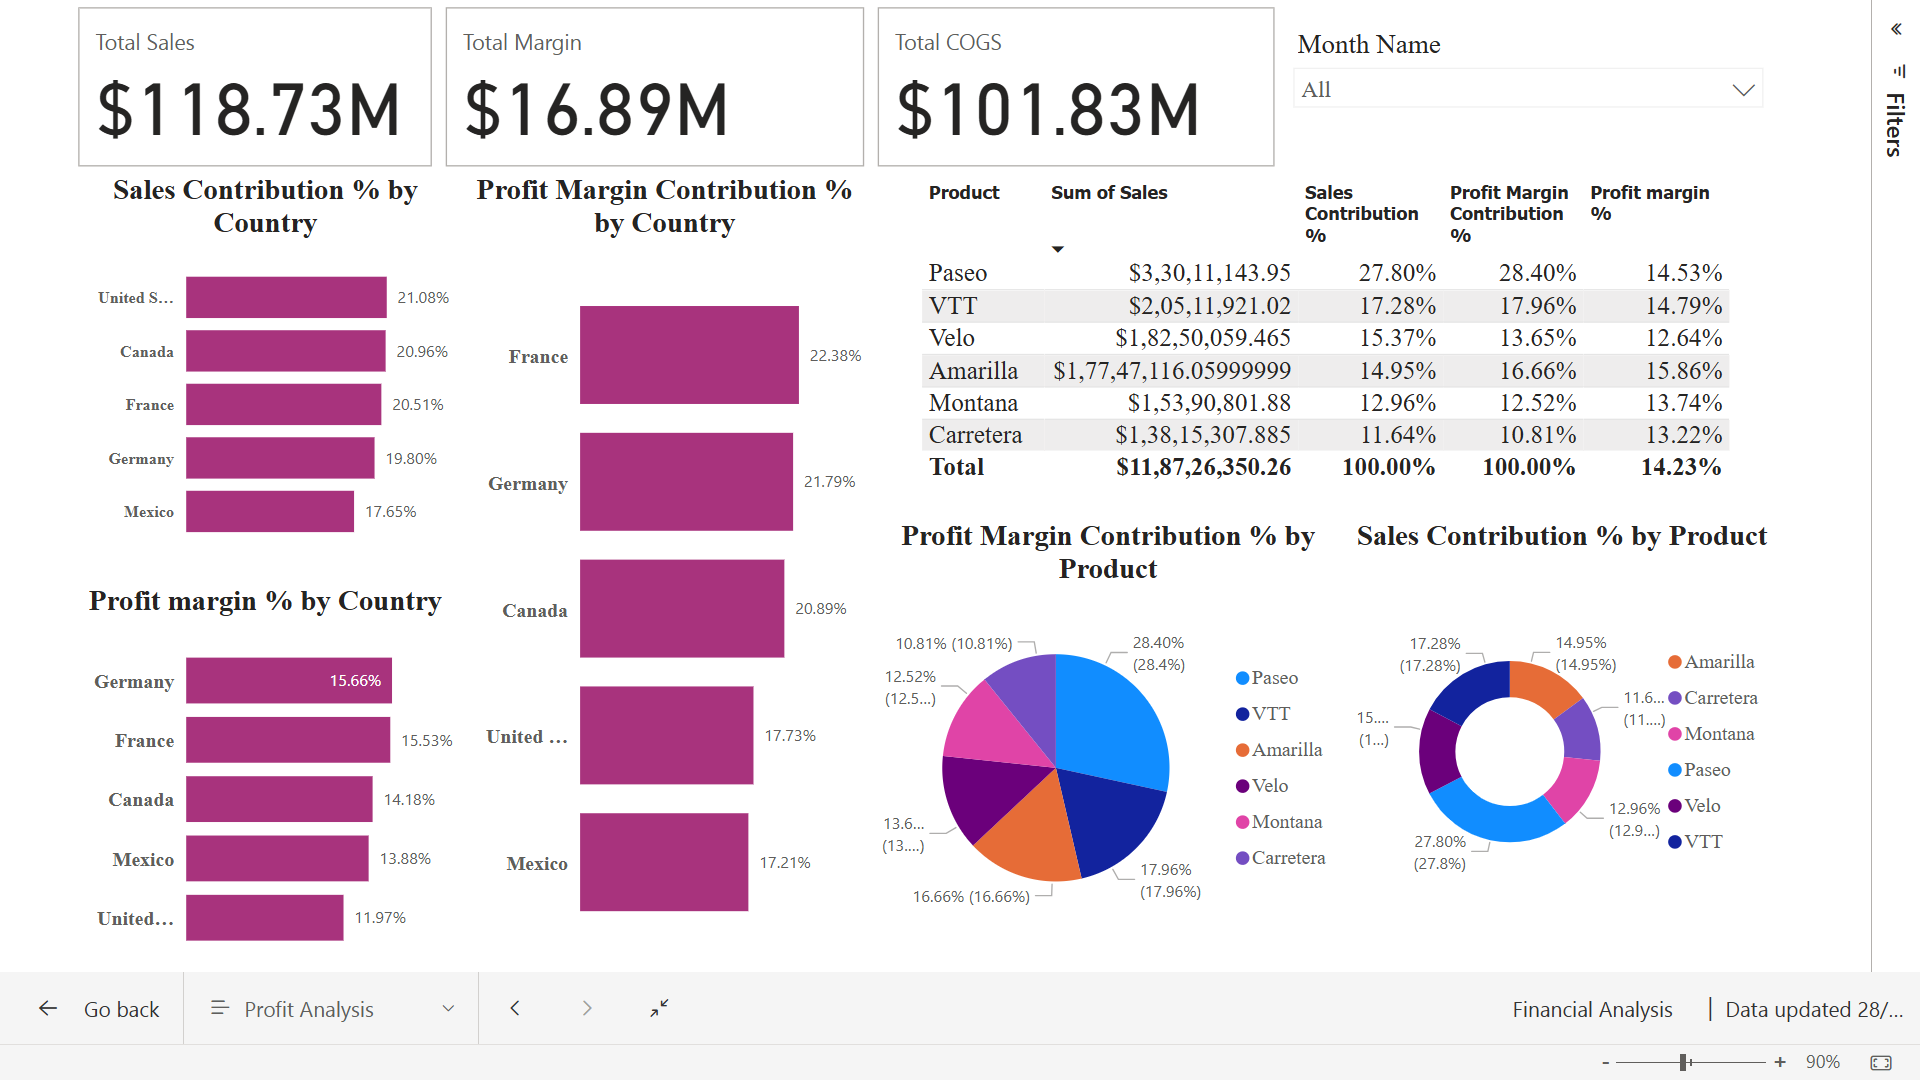

The page's visual inventory and layout, read from the dashboard file:
{"tool":"powerbi","page":{"name":"Profit Analysis","canvas":[1280,720],"ordinal":1},"visuals":[{"type":"cardVisual","fields":{"Data":["financials.Total Sales"]},"box":[0,0,272,128],"z":0},{"type":"barChart","fields":{"Y":["financials.Profit Margin Contribution %"],"Category":["financials.Country"]},"box":[288,128,304,592],"z":1000},{"type":"cardVisual","fields":{"Data":["financials.Total Margin"]},"box":[272,0,320,128],"z":2000},{"type":"cardVisual","fields":{"Data":["financials.Total COGS"]},"box":[592,0,304,128],"z":3000},{"type":"barChart","fields":{"Category":["financials.Country"],"Y":["financials.Profit margin %"]},"box":[0,432,288,288],"z":4000},{"type":"barChart","fields":{"Category":["financials.Country"],"Y":["financials.Sales Contribution %"]},"box":[0,128,288,288],"z":5000},{"type":"tableEx","fields":{"Values":["financials.Product","Sum(financials. Sales)","financials.Sales Contribution %","financials.Profit Margin Contribution %","financials.Profit margin %"]},"box":[624,128,640,240],"z":6000},{"type":"pieChart","fields":{"Y":["financials.Profit Margin Contribution %"],"Category":["financials.Product"]},"box":[592,384,352,320],"z":7000},{"type":"donutChart","fields":{"Y":["financials.Sales Contribution %"],"Series":["financials.Product"]},"box":[944,384,320,320],"z":8000},{"type":"slicer","fields":{"Values":["financials.Month Name"]},"box":[896,16,368,112],"z":9000}]}

Visuals, with their boxes on the page's 1280x720 design canvas (x1, y1, x2, y2). These are canvas units, not pixel positions in the 1920x1080 screenshot, which may show the page scaled, cropped or inside an application window:
cardVisual - financials.Total Sales: l=0, t=0, r=272, b=128
barChart - financials.Profit Margin Contribution % x financials.Country: l=288, t=128, r=592, b=720
cardVisual - financials.Total Margin: l=272, t=0, r=592, b=128
cardVisual - financials.Total COGS: l=592, t=0, r=896, b=128
barChart - financials.Country x financials.Profit margin %: l=0, t=432, r=288, b=720
barChart - financials.Country x financials.Sales Contribution %: l=0, t=128, r=288, b=416
tableEx - financials.Product x Sum(financials. Sales): l=624, t=128, r=1264, b=368
pieChart - financials.Profit Margin Contribution % x financials.Product: l=592, t=384, r=944, b=704
donutChart - financials.Sales Contribution % x financials.Product: l=944, t=384, r=1264, b=704
slicer - financials.Month Name: l=896, t=16, r=1264, b=128
